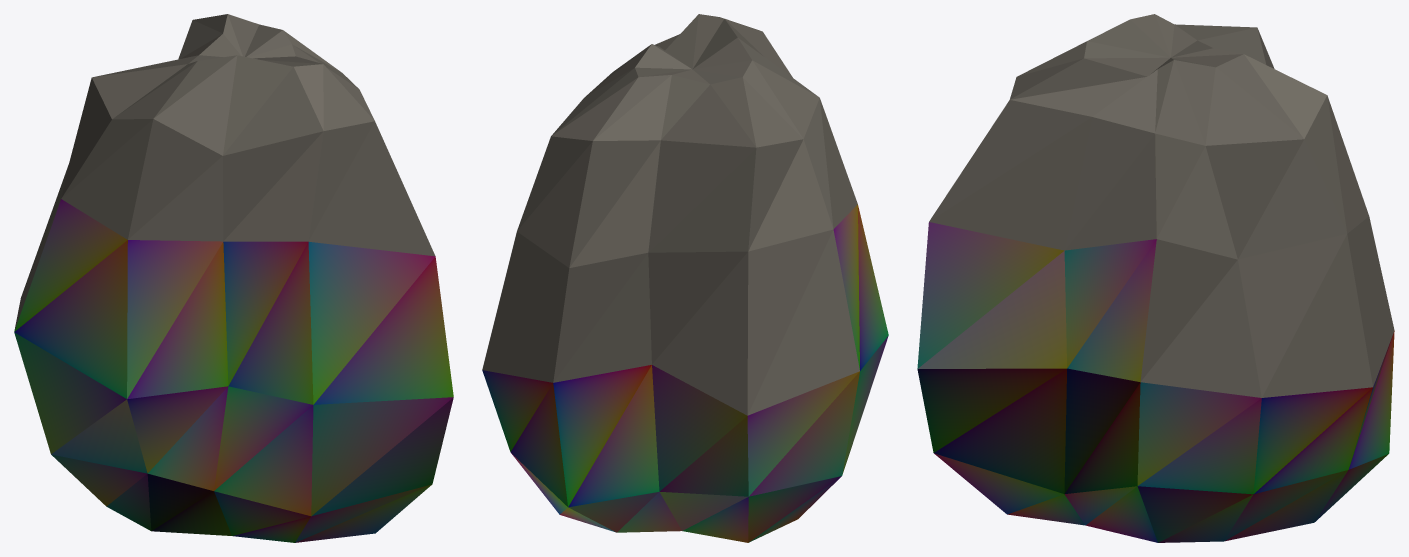
The model's file is rock_06.glb.
3 renders of one model, left to right at view 1: azimuth 30°, elevation 25°; view 2: azimuth 150°, elevation 25°; view 3: azimuth 270°, elevation 25°, orthographic. The views are drawn at different scales.
Parts seen in each view (by area): view 1: rock_06; view 2: rock_06; view 3: rock_06.
Boxes of the visible parts, box(x1,y1,x2,y2) form: rock_06: box(14, 14, 453, 542); rock_06: box(482, 14, 888, 542); rock_06: box(917, 14, 1394, 542).
Bounding box in the file's own units: 0.7624 × 0.9244 × 0.8746.
